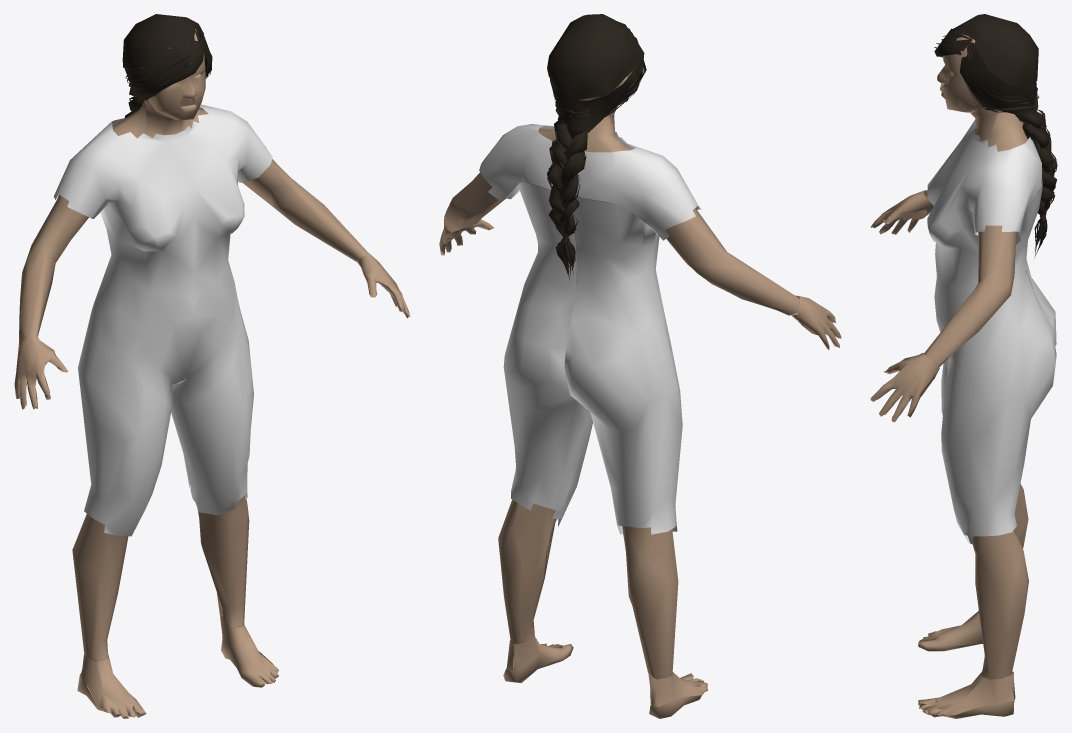
Rendered from woman_03.glb.
3 views of the same model, side by side, from view 1: azimuth 30°, elevation 25°; view 2: azimuth 150°, elevation 25°; view 3: azimuth 270°, elevation 25° (orthographic).
Visible parts, largest first — view 1: crowd; view 2: crowd; view 3: crowd.
Part boxes in pixels (left/top/right/bottom): crowd: left=14, top=14, right=410, bottom=718; crowd: left=439, top=14, right=841, bottom=718; crowd: left=870, top=14, right=1057, bottom=718.
Size of the model in its own units: 0.9683 by 1.59 by 0.4067.
